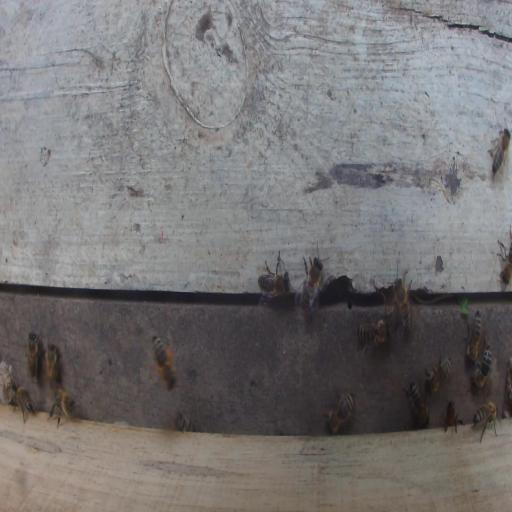bee: (322, 385, 356, 436), (356, 311, 391, 360), (297, 252, 324, 314), (388, 275, 414, 336), (151, 335, 179, 391), (402, 375, 431, 427), (470, 334, 492, 397), (256, 263, 292, 301), (47, 387, 77, 428), (471, 401, 500, 443), (424, 354, 452, 395), (490, 125, 511, 177), (496, 223, 511, 291), (14, 385, 36, 424), (24, 331, 40, 382), (444, 397, 464, 435), (44, 341, 58, 385), (173, 411, 199, 434)
